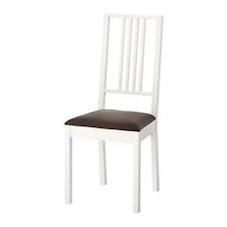chair: (12, 6, 209, 214)
